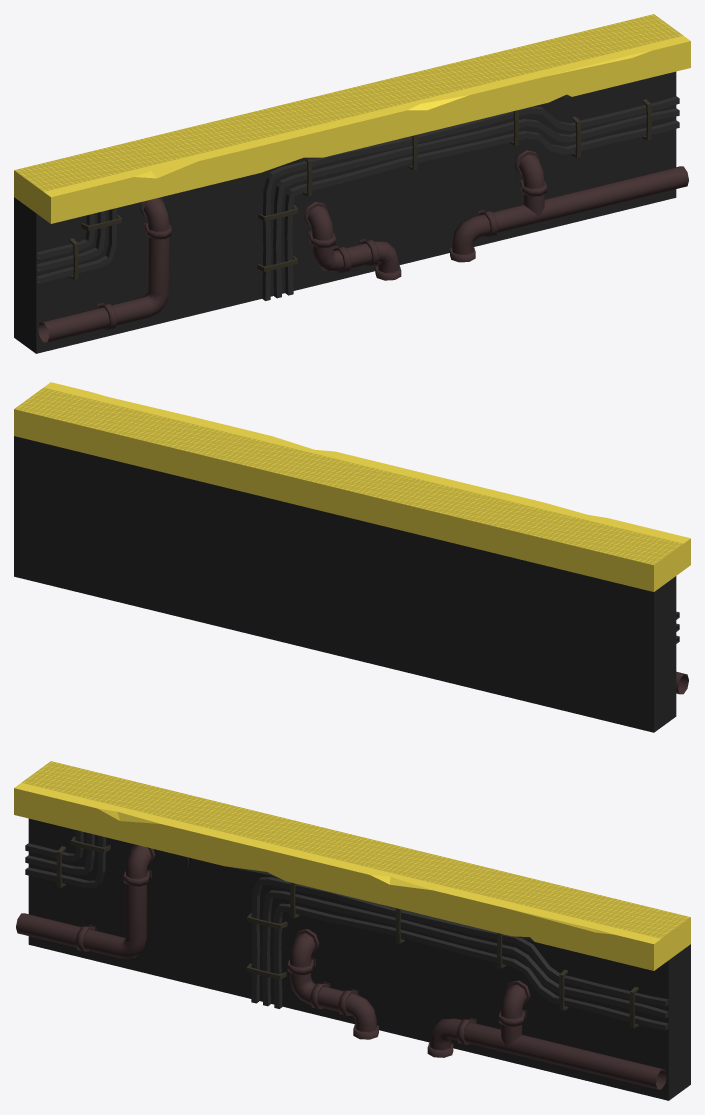
File: SW_ENV_PlatformEdge_B_05m_FF.fbx
3 renders of one model, top to bottom at view 1: azimuth 30°, elevation 25°; view 2: azimuth 150°, elevation 25°; view 3: azimuth 330°, elevation 25°, orthographic.
Visible parts, largest first — view 1: SW_ENV_PlatformEdge_B_05m_FF; view 2: SW_ENV_PlatformEdge_B_05m_FF; view 3: SW_ENV_PlatformEdge_B_05m_FF.
Part boxes in pixels (x1,y1,x2,y2): SW_ENV_PlatformEdge_B_05m_FF: (14,14,690,353); SW_ENV_PlatformEdge_B_05m_FF: (14,382,690,732); SW_ENV_PlatformEdge_B_05m_FF: (14,761,690,1100).
Bounding box in the file's own units: 5 × 1.25 × 0.5.
